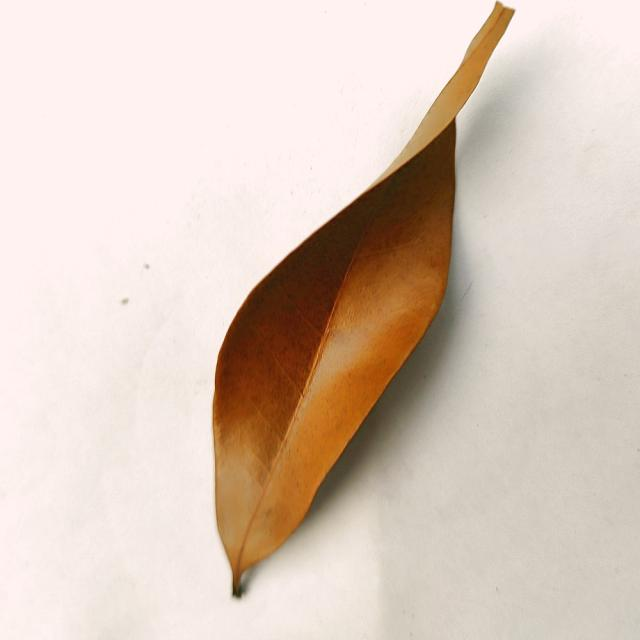Dry_Leaf-Lychee: (212, 4, 513, 598)
